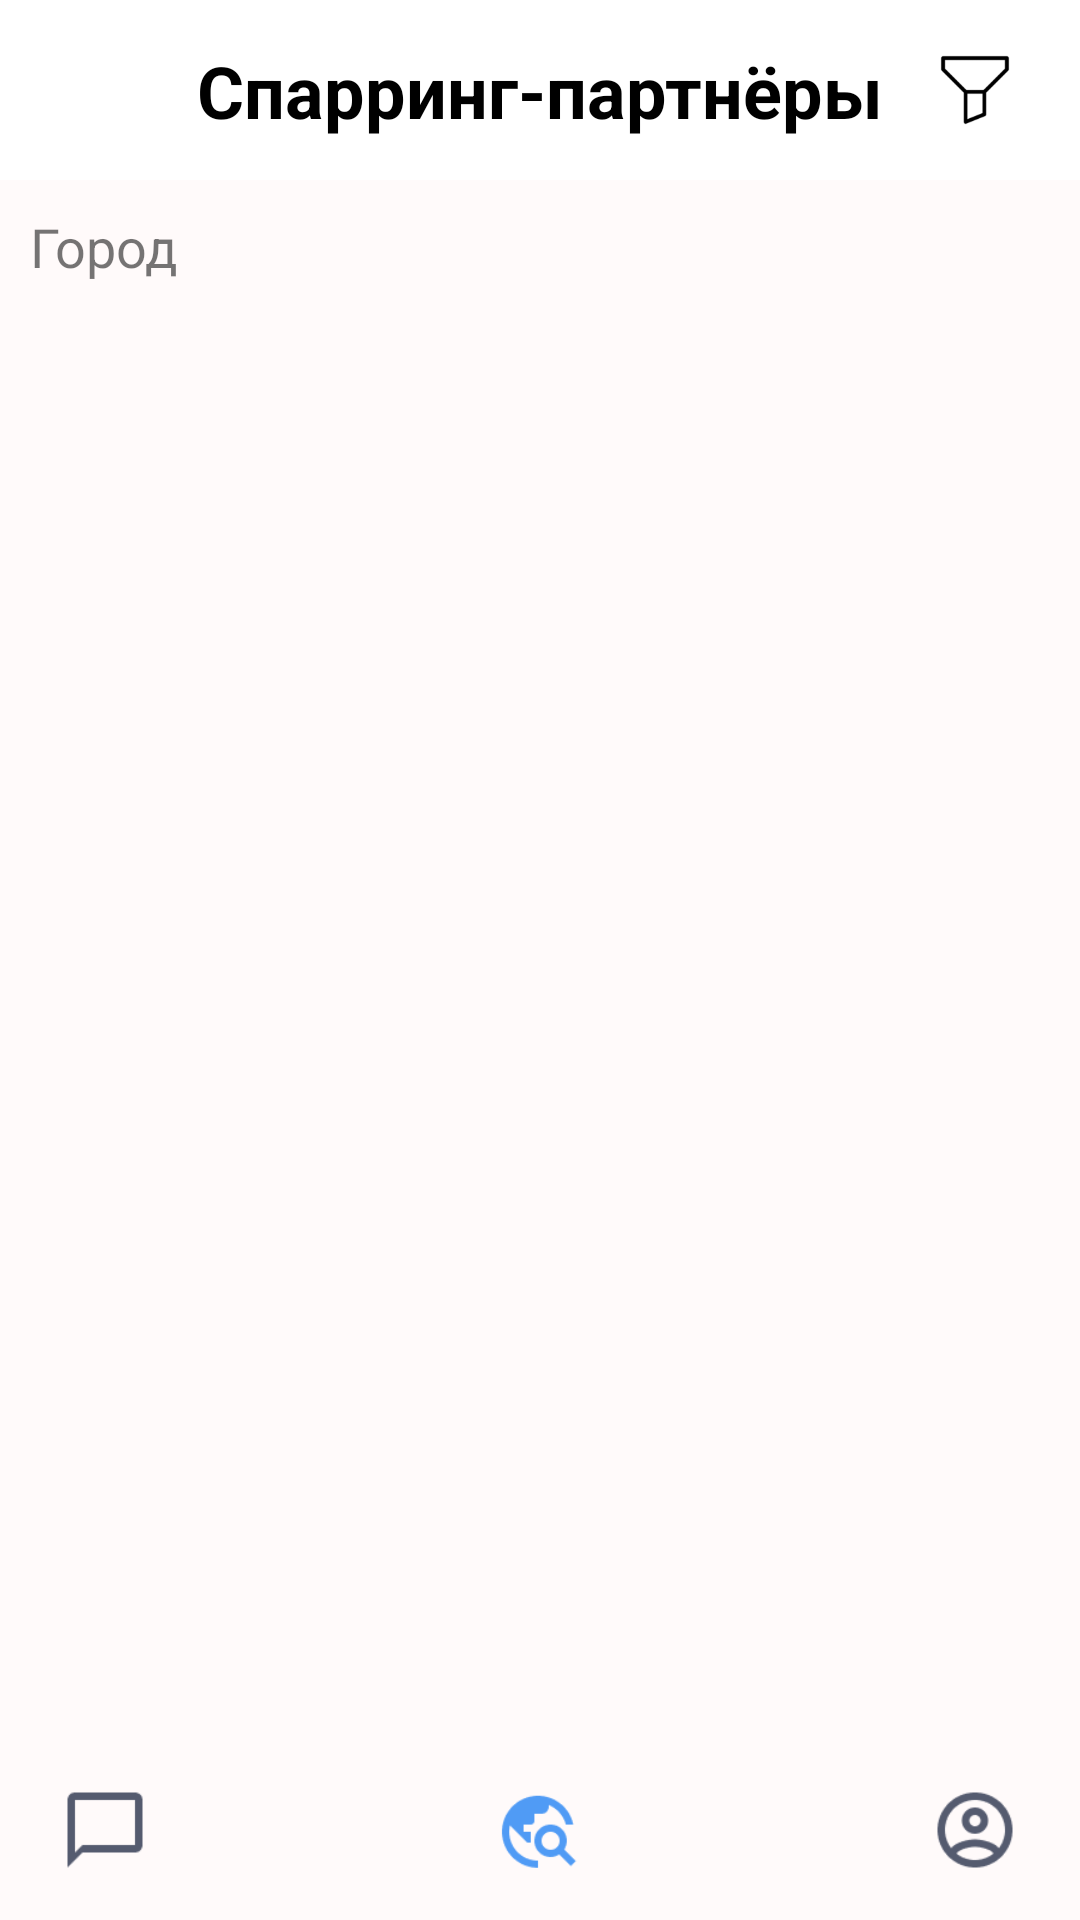

Where icons sit on this 1080*1920 app screen, as [left=x1, top=y1, right=x2, bottom=y2]:
chat unactive: [left=67, top=1792, right=143, bottom=1868]
filter: [left=941, top=56, right=1009, bottom=124]
profile unactive: [left=937, top=1792, right=1013, bottom=1868]
search: [left=502, top=1795, right=576, bottom=1868]
